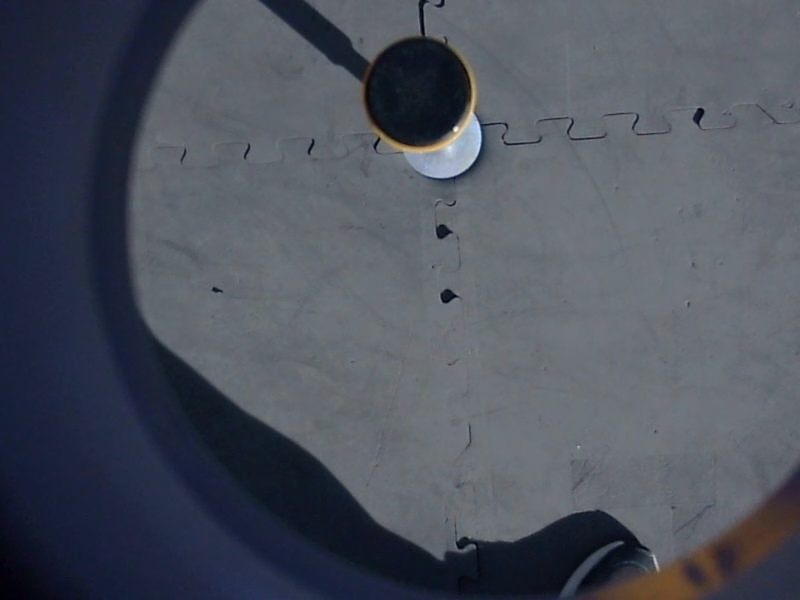tip: (355, 31, 481, 157)
